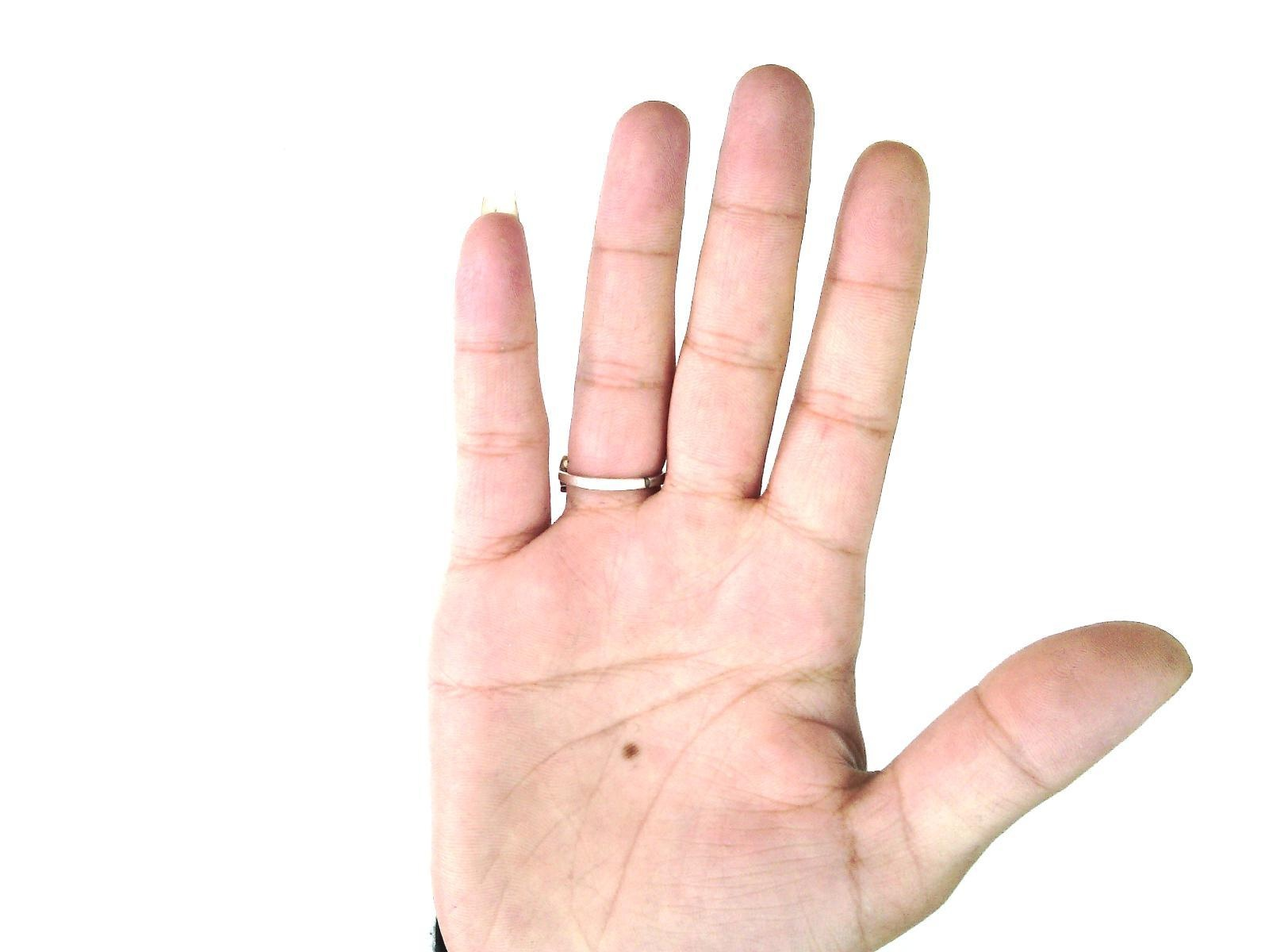open_palm: (422, 63, 1195, 951)
